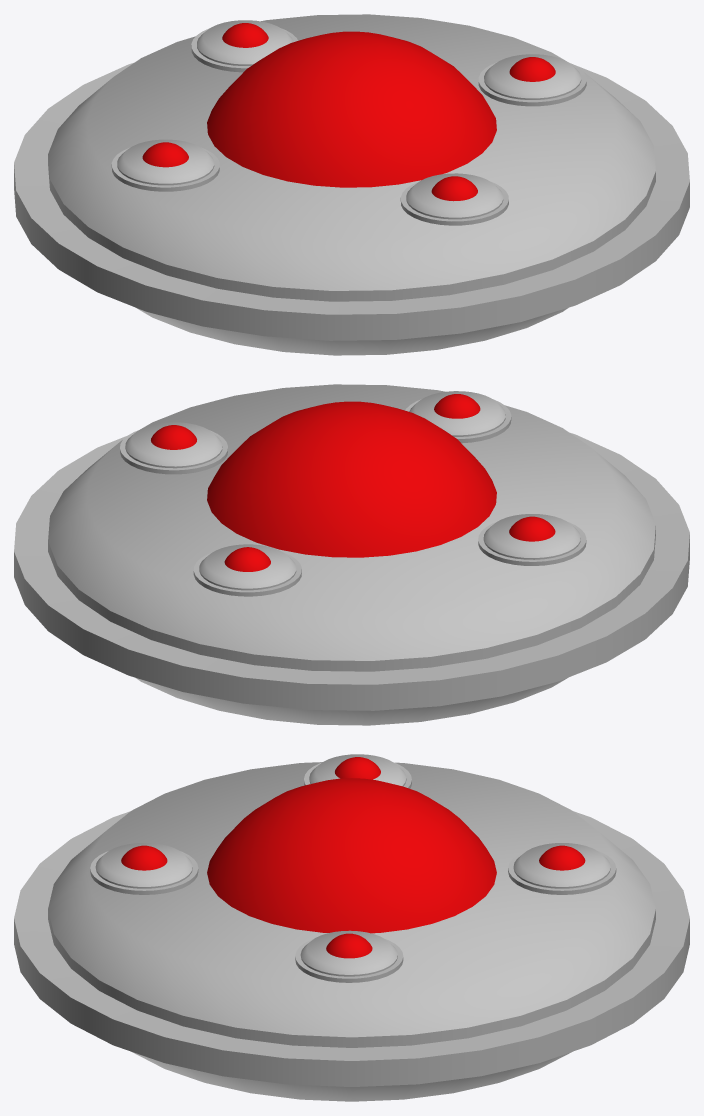
The model's file is ufo.glb.
3 views of the same model, one above another, from view 1: azimuth 30°, elevation 25°; view 2: azimuth 150°, elevation 25°; view 3: azimuth 270°, elevation 25° (orthographic).
Visible parts, largest first — view 1: ufo; view 2: ufo; view 3: ufo.
Part boxes in pixels (box(x1,y1,x2,y2)): ufo: box(14, 14, 689, 355); ufo: box(14, 384, 689, 725); ufo: box(14, 754, 689, 1101).
Size of the model in its own units: 8.37 by 2.68 by 8.37.
